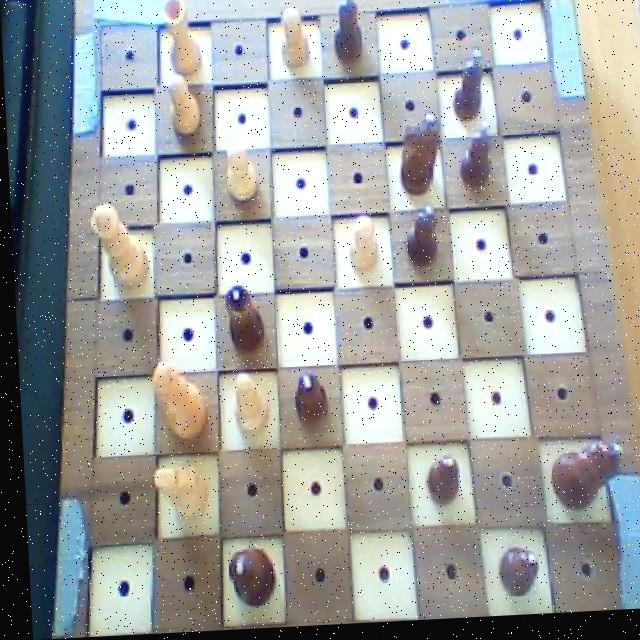black-bishop: (541, 440, 625, 519)
black-king: (392, 113, 444, 204)
black-knight: (446, 48, 489, 128), (451, 123, 495, 200), (282, 372, 329, 435), (400, 206, 439, 278), (491, 545, 539, 603), (329, 0, 368, 70), (419, 455, 460, 516)
black-pawn: (219, 542, 274, 612)
black-queen: (218, 285, 264, 360)
white-bishop: (143, 357, 208, 448)
white-king: (144, 460, 208, 532)
white-knight: (226, 368, 268, 442), (161, 74, 201, 146), (221, 138, 260, 207), (277, 6, 314, 75), (343, 214, 381, 279)
white-pawn: (84, 199, 149, 297)
white-queen: (159, 0, 207, 81)
